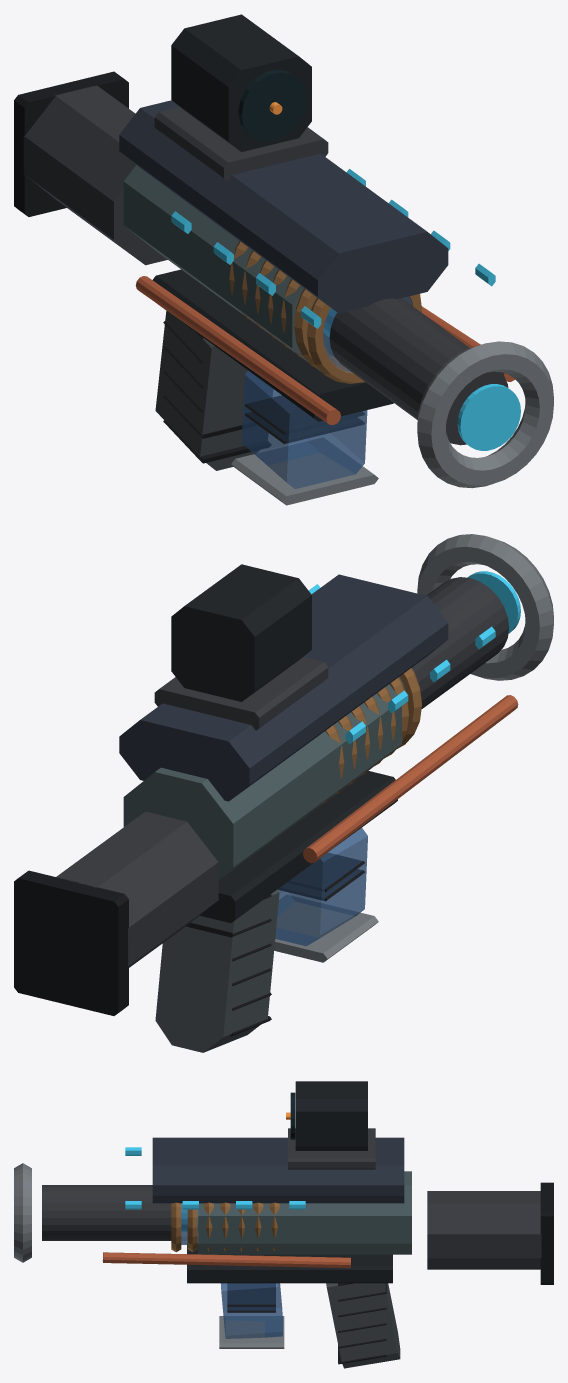
The model's file is 09_Helix_Plasma_Carbine.obj.
3 views of the same model, one above another, from view 1: azimuth 30°, elevation 25°; view 2: azimuth 150°, elevation 25°; view 3: azimuth 270°, elevation 25° (orthographic). The views are drawn at different scales.
Parts seen in each view (by area): view 1: 001_Upper_Housing, 015_Folded_Stock, 038_Reflex_Housing, 013_Output_Emitter, 000_Ceramic_Core, 012_Emitter_Barrel, 017_Angled_Grip, 024_Magazine, 002_Under_Rail, 027_Magazine_BasePlate, 041_MountPlate, 028_Copper_Power_Line_-1 (+8 smaller); view 2: 001_Upper_Housing, 000_Ceramic_Core, 038_Reflex_Housing, 016_Shoulder_Gel, 017_Angled_Grip, 015_Folded_Stock, 013_Output_Emitter, 002_Under_Rail, 024_Magazine, 012_Emitter_Barrel, 041_MountPlate, 027_Magazine_BasePlate (+5 smaller); view 3: 001_Upper_Housing, 000_Ceramic_Core, 015_Folded_Stock, 012_Emitter_Barrel, 038_Reflex_Housing, 017_Angled_Grip, 002_Under_Rail, 024_Magazine, 033_Copper_Power_Line_1, 027_Magazine_BasePlate, 041_MountPlate, 013_Output_Emitter (+4 smaller).
Boxes of the visible parts, x1,y1,x2,y2 form: 001_Upper_Housing: (119,100,448,313); 015_Folded_Stock: (23,85,167,265); 038_Reflex_Housing: (171,14,311,151); 013_Output_Emitter: (417,341,553,488); 000_Ceramic_Core: (123,165,333,371); 012_Emitter_Barrel: (329,298,508,445); 017_Angled_Grip: (155,311,272,470); 024_Magazine: (241,370,367,488); 002_Under_Rail: (152,269,393,421); 027_Magazine_BasePlate: (231,438,378,505); 041_MountPlate: (154,107,328,180); 028_Copper_Power_Line_-1: (135,276,340,425); 001_Upper_Housing: (119,574,448,801); 000_Ceramic_Core: (123,684,401,879); 038_Reflex_Housing: (171,564,311,701); 016_Shoulder_Gel: (14,870,128,1015); 017_Angled_Grip: (155,889,279,1052); 015_Folded_Stock: (56,811,218,967); 013_Output_Emitter: (417,534,553,680); 002_Under_Rail: (200,771,397,923); 024_Magazine: (275,827,367,946); 012_Emitter_Barrel: (412,577,508,708); 041_MountPlate: (154,656,328,730); 027_Magazine_BasePlate: (274,895,378,962); 001_Upper_Housing: (152,1137,404,1203); 000_Ceramic_Core: (198,1171,411,1254); 015_Folded_Stock: (427,1191,541,1269); 012_Emitter_Barrel: (42,1185,171,1240); 038_Reflex_Housing: (295,1081,367,1150); 017_Angled_Grip: (326,1283,400,1368); 002_Under_Rail: (187,1245,392,1283); 024_Magazine: (220,1283,282,1338); 033_Copper_Power_Line_1: (102,1252,350,1268); 027_Magazine_BasePlate: (219,1316,284,1348); 041_MountPlate: (288,1128,375,1169); 013_Output_Emitter: (14,1163,31,1262).
Bounding box in the file's own units: 0.368 × 0.7911 × 1.42.
